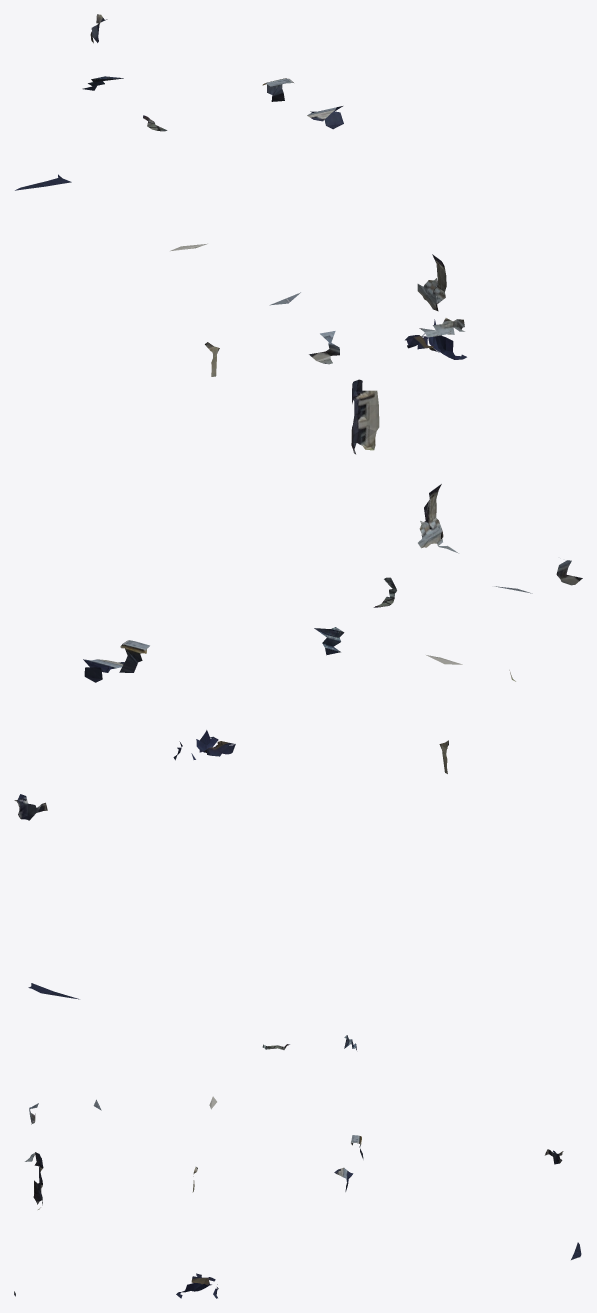
The model's file is hero-reichstag-3898_58196-material-4.glb.
The picture shows the model from 3 angles, top to bottom: view 1: azimuth 30°, elevation 25°; view 2: azimuth 150°, elevation 25°; view 3: azimuth 270°, elevation 25°; orthographic projection. The views are drawn at different scales.
Visible parts, largest first — view 1: world; view 2: world; view 3: world.
Part boxes in pixels (x1,y1,x2,y2): world: (15, 14, 466, 454); world: (14, 484, 582, 999); world: (14, 1035, 581, 1298).
Size of the model in its own units: 55.89 by 51.67 by 143.
1 material, 1 textured.
